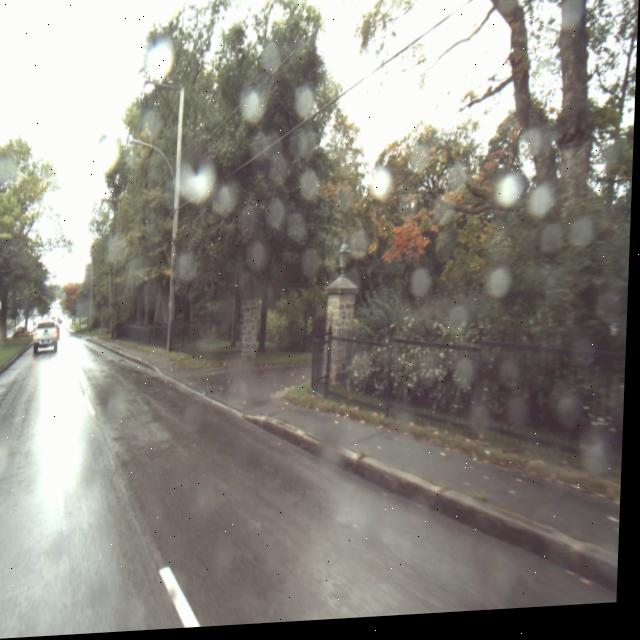car: (35, 323, 62, 357)
